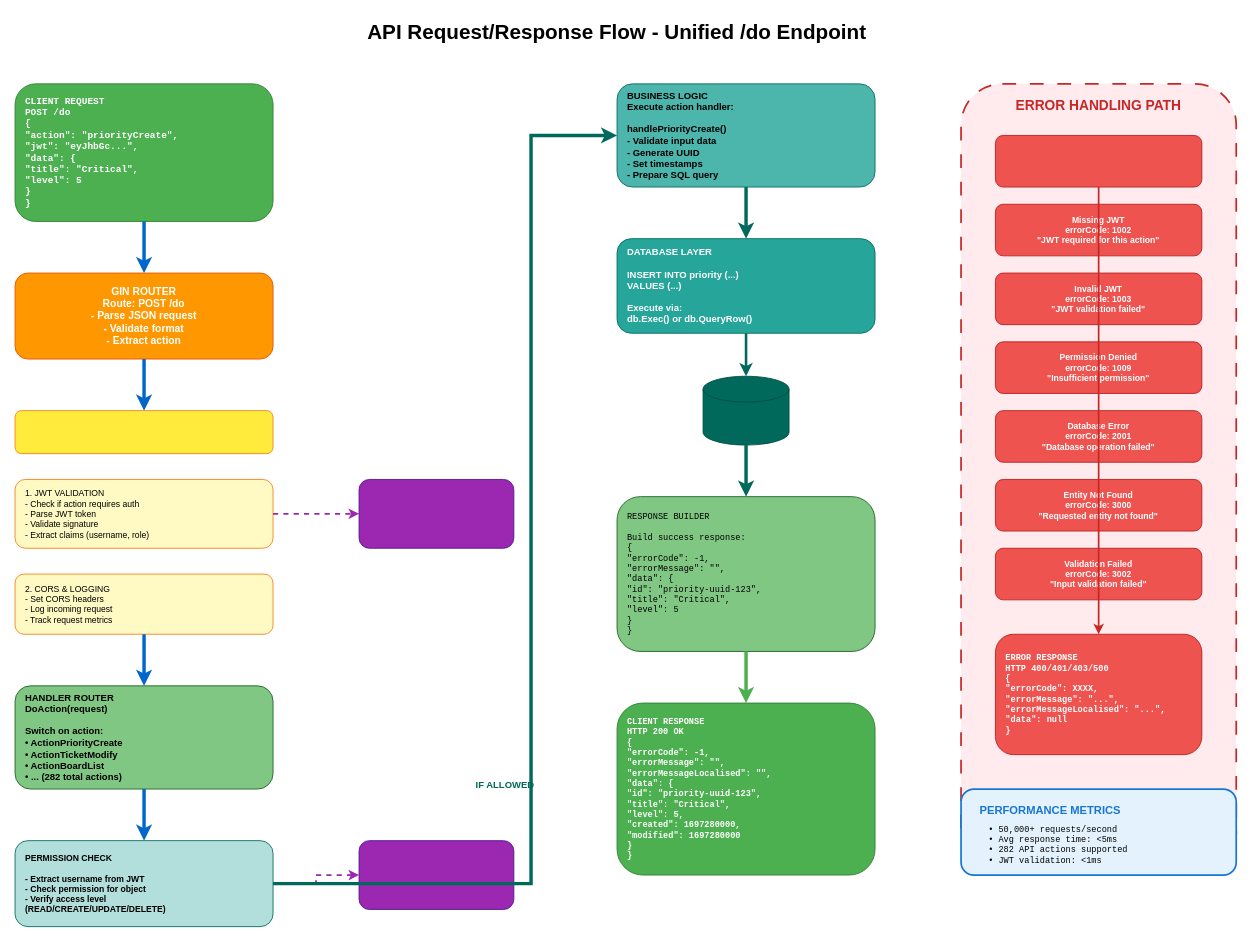
This 1252x942 diagram has some shape labels left out. The box of each missing label's shape, as (x1, y1, x2, y2) in pixels:
Authentication Service (if enabled) Validates JWT token Returns user claims: (358, 479, 514, 548)
Invalid Request errorCode: 1000 "Invalid request format": (995, 135, 1202, 187)
MIDDLEWARE STACK: (14, 410, 273, 454)
Permissions Engine (if enabled) Checks user permissions Returns: allowed/denied: (358, 840, 514, 909)
SQLite / PostgreSQL: (702, 375, 789, 445)
